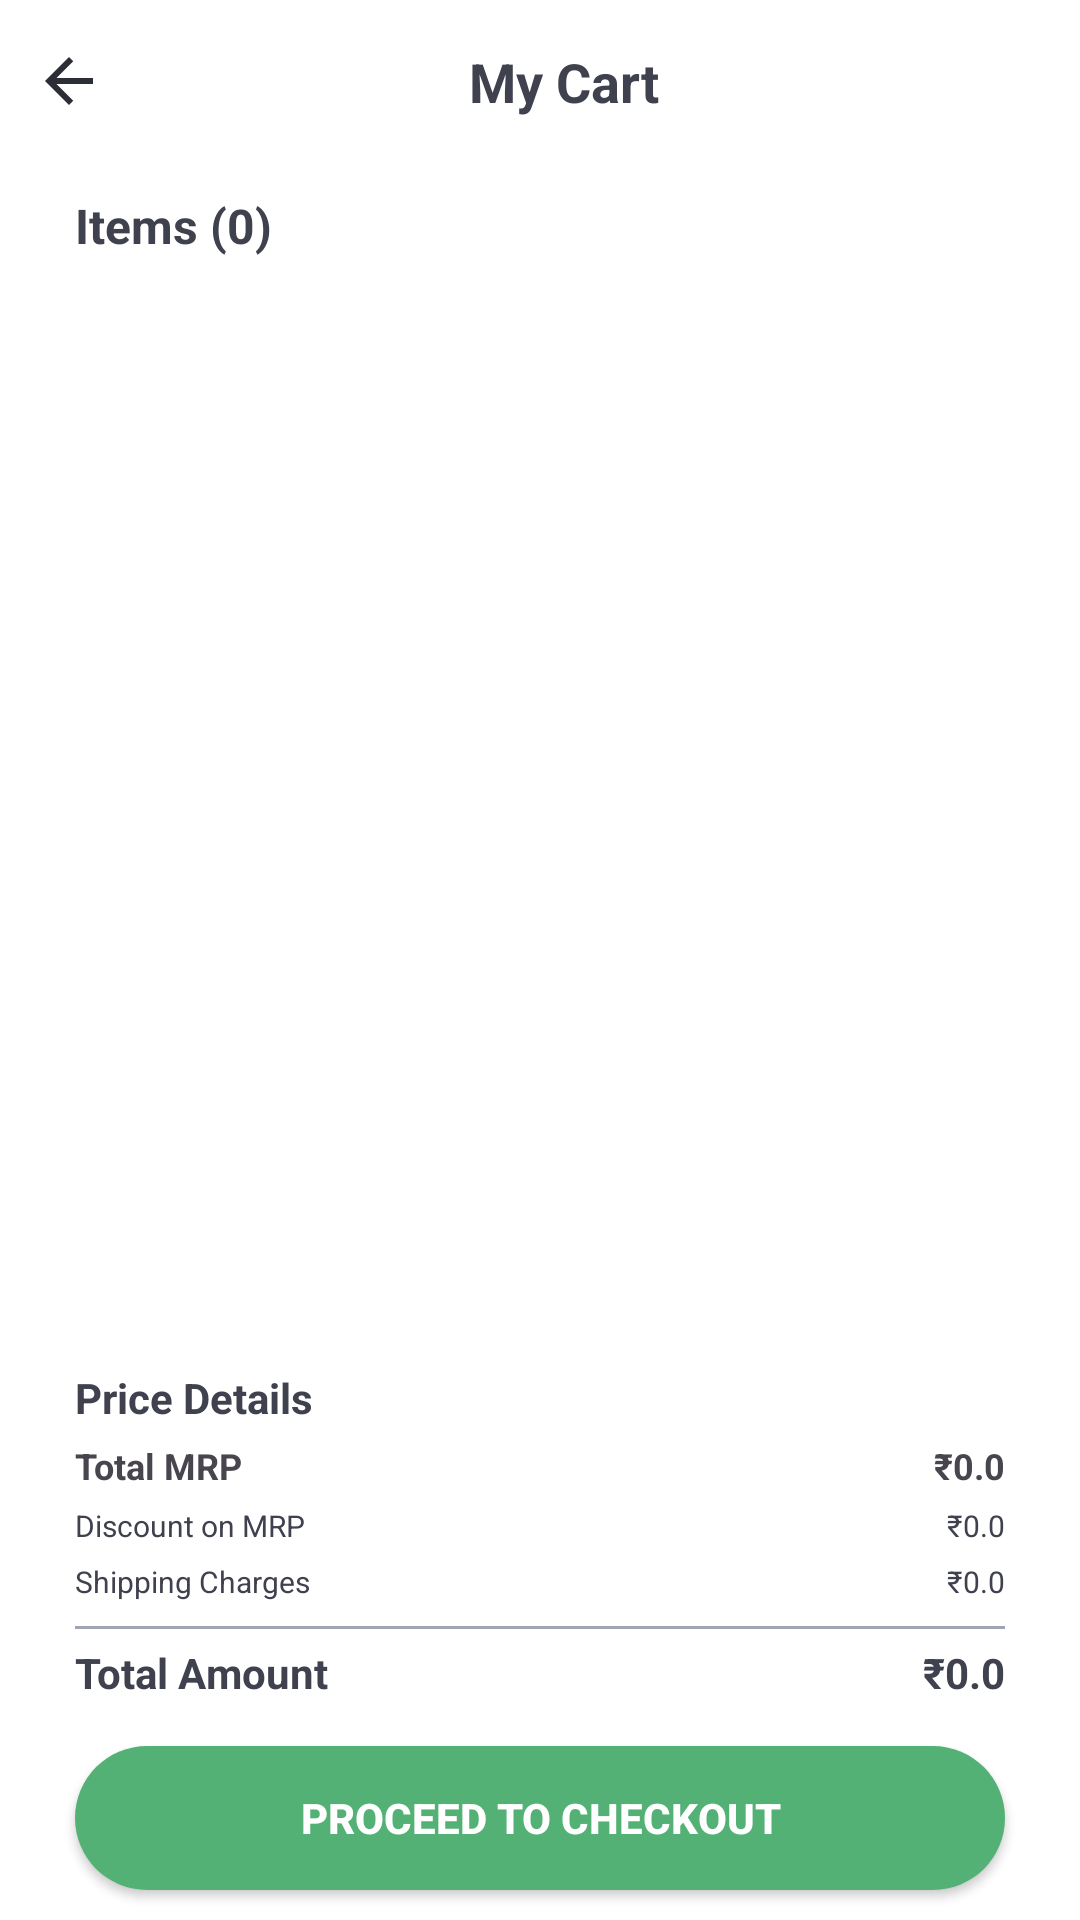

Icon click points for this 1080w x 1920h phone screenshot, format (x,y):
back: (69,81)
